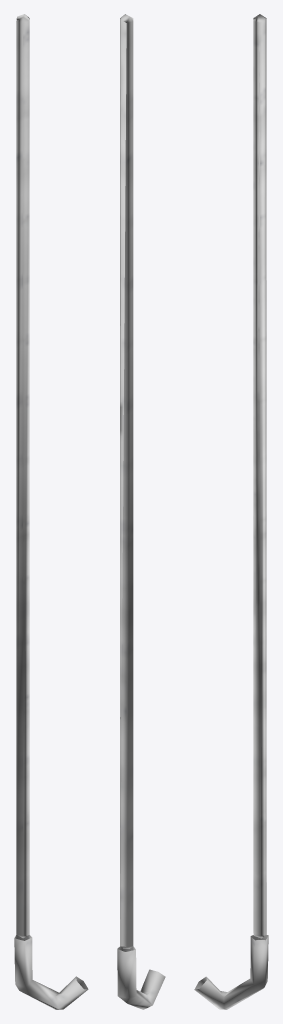
The model's file is RightHand_C2.fbx.
3 views of the same model, side by side, from view 1: azimuth 90°, elevation 25°; view 2: azimuth 150°, elevation 25°; view 3: azimuth 270°, elevation 25° (orthographic).
Parts seen in each view (by area): view 1: Civ_ParaguasAbierto_RightHand_C2; view 2: Civ_ParaguasAbierto_RightHand_C2; view 3: Civ_ParaguasAbierto_RightHand_C2.
Part boxes in pixels (bbox=[...]): Civ_ParaguasAbierto_RightHand_C2: bbox=[14, 14, 88, 1009]; Civ_ParaguasAbierto_RightHand_C2: bbox=[117, 14, 165, 1009]; Civ_ParaguasAbierto_RightHand_C2: bbox=[194, 14, 268, 1009].
Bounding box in the file's own units: 0.0925 × 5.32 × 0.3605.
